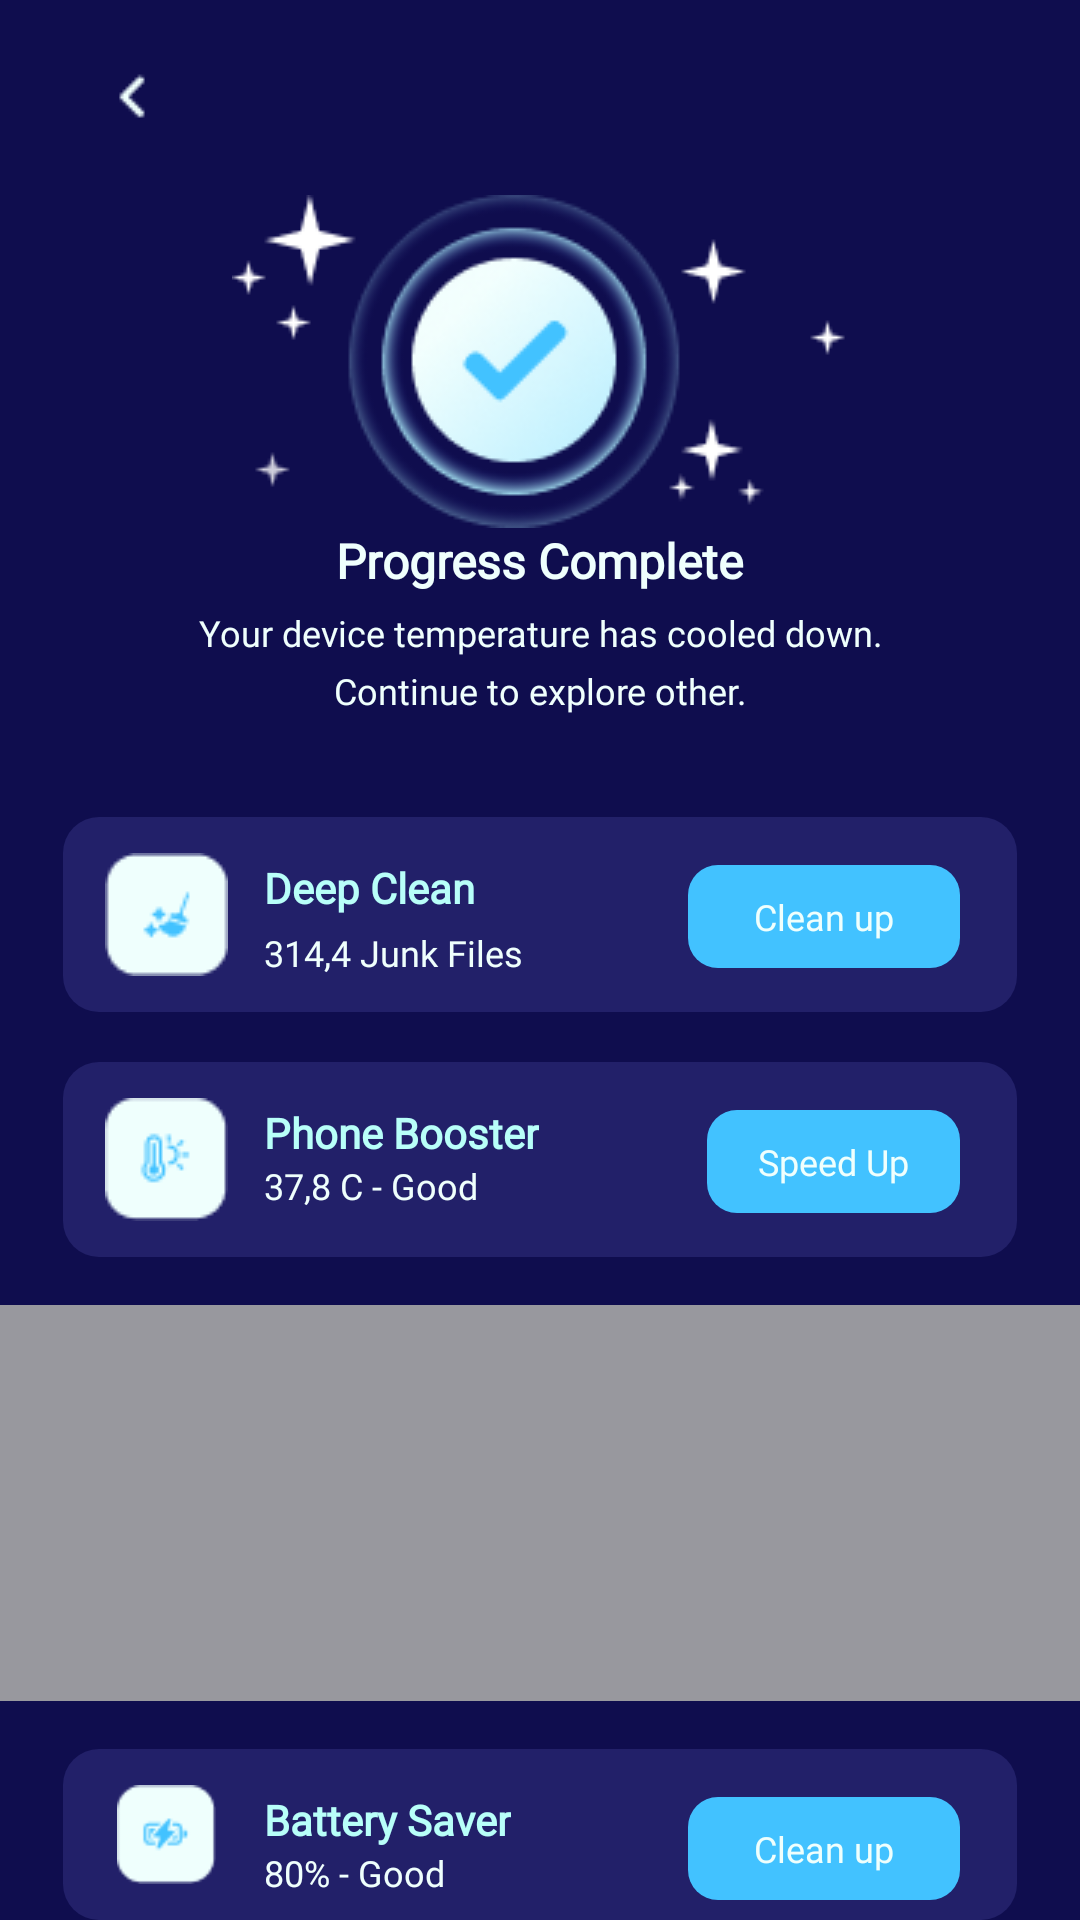

Icons on this 1080×1920 Android screen, each with the point to tap as (x=x, y=y):
back arrow: (x=132, y=96)
cpu cooler: (x=166, y=1159)
